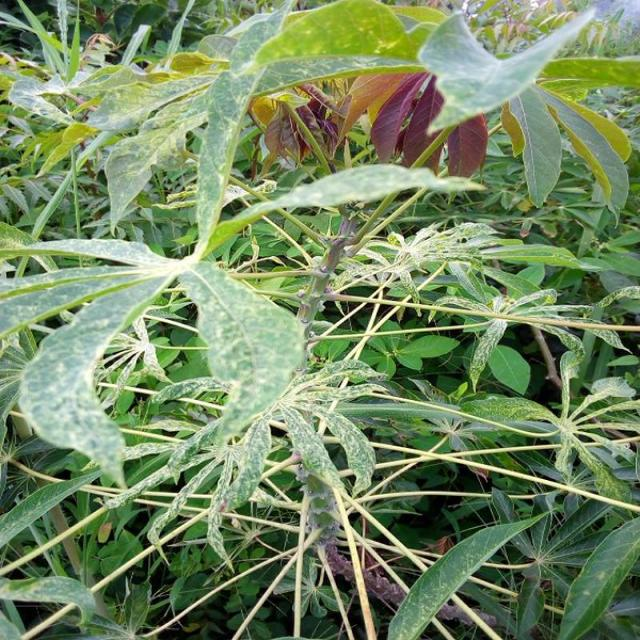cassava leaf: (1, 0, 636, 633), (177, 258, 306, 446)
